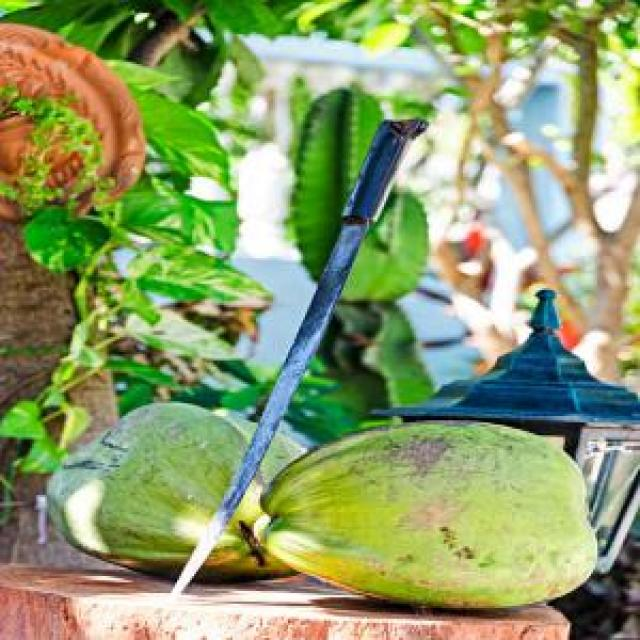knife: (162, 113, 433, 607)
